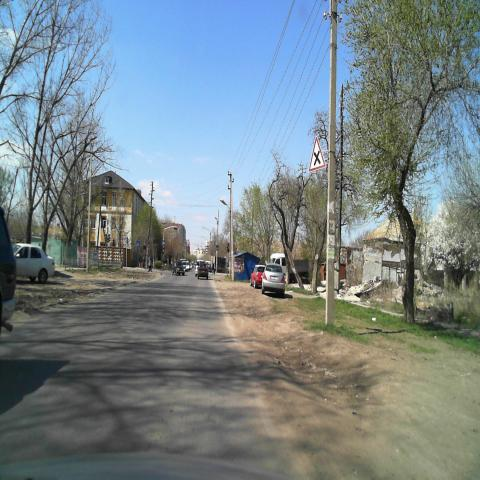1_6: (308, 136, 326, 172)
